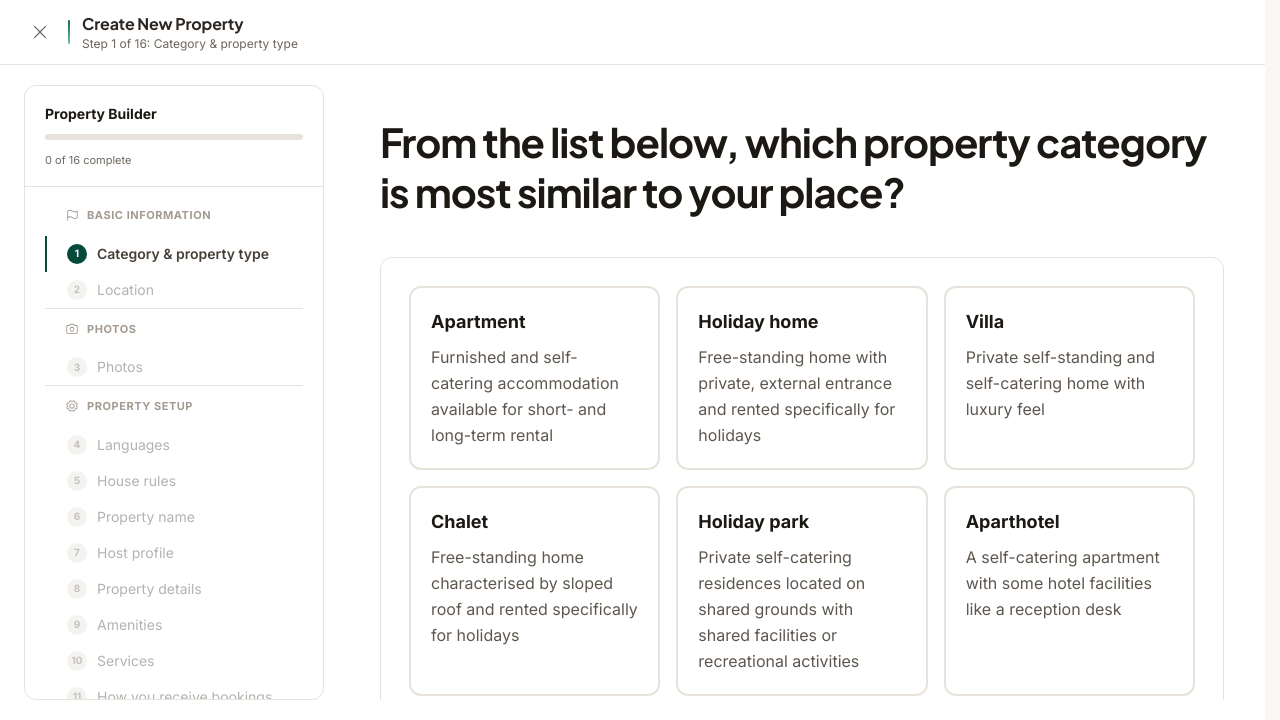
Test: PropertyHomeCategoryPage — which category is most similar › moves to the how-many screen with the chosen category and booking type
Click the text "Chalet" at (460, 522), box [431,511,488,532]
(page scrolled)
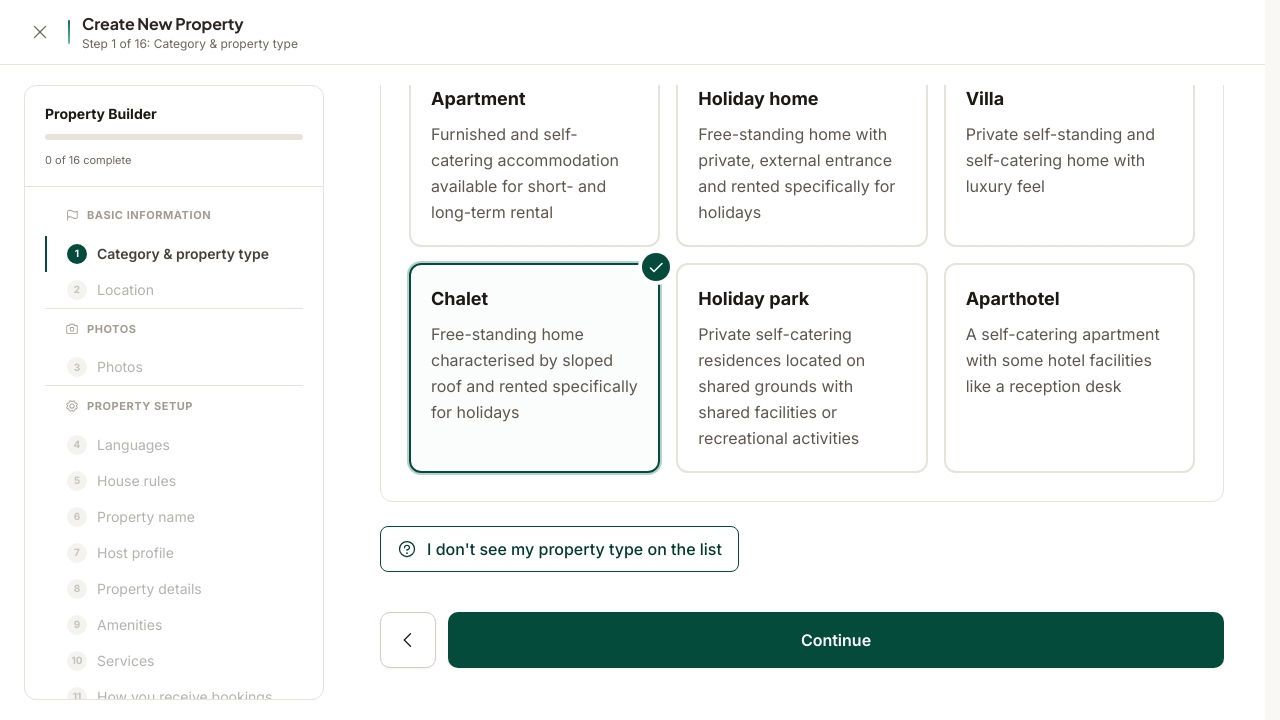
Click the button "Continue" at (836, 640), box [448,612,1224,668]
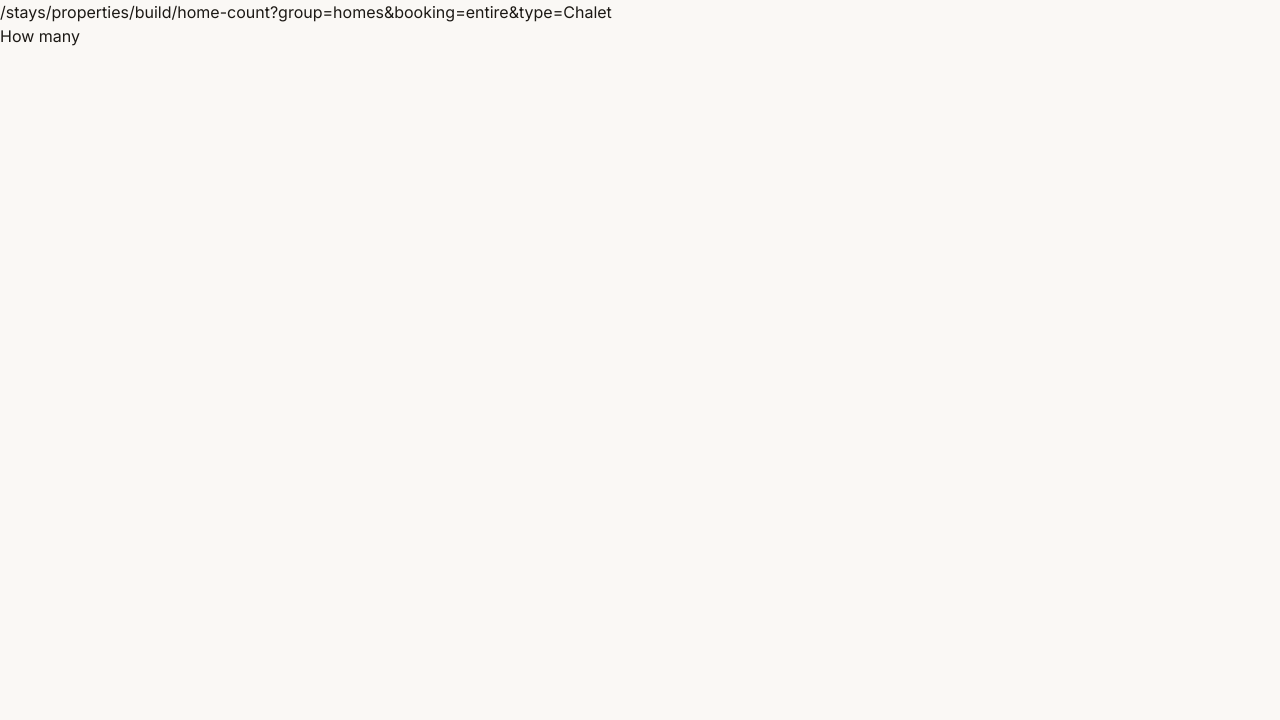
Expected: the text with test id "location" reads "/stays/properties/build/home-count?group=homes&booking=entire&type=Chalet", [0,2,612,22]
